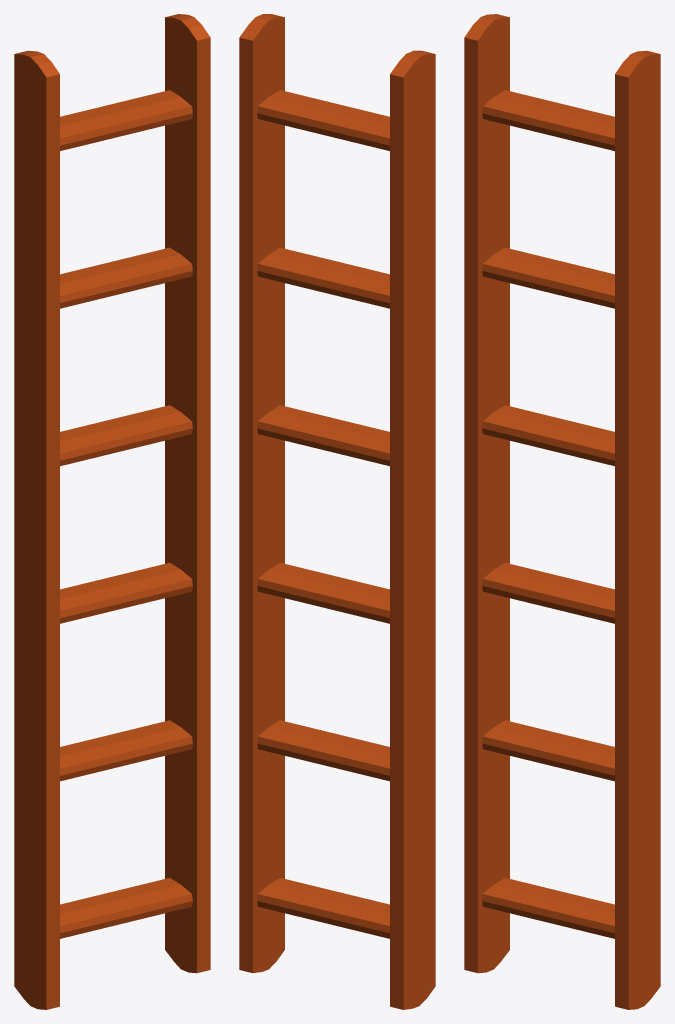
Rendered from ladder.obj.
3 renders of one model, left to right at view 1: azimuth 30°, elevation 25°; view 2: azimuth 150°, elevation 25°; view 3: azimuth 330°, elevation 25°, orthographic.
Size of the model in its own units: 2.18 by 12.05 by 0.7393.
